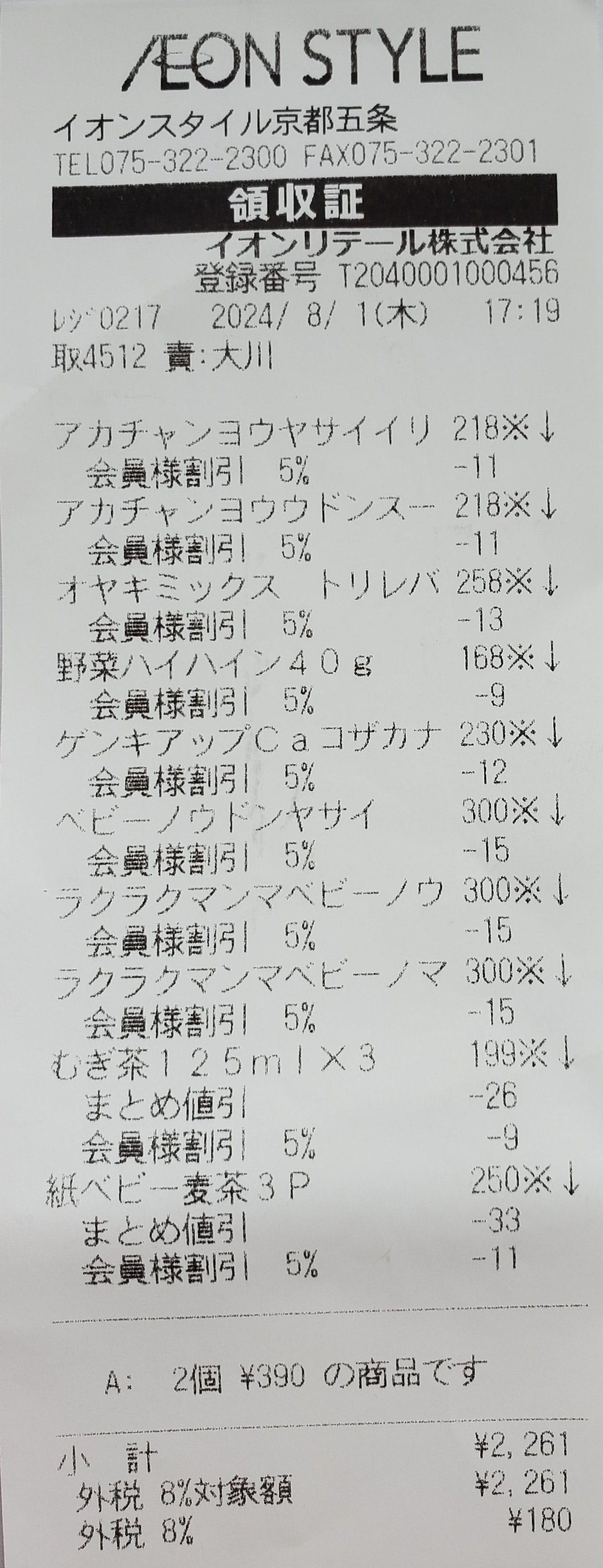TEL: (99, 142, 298, 180)
date: (201, 295, 377, 338)
total: (484, 1423, 586, 1468)
